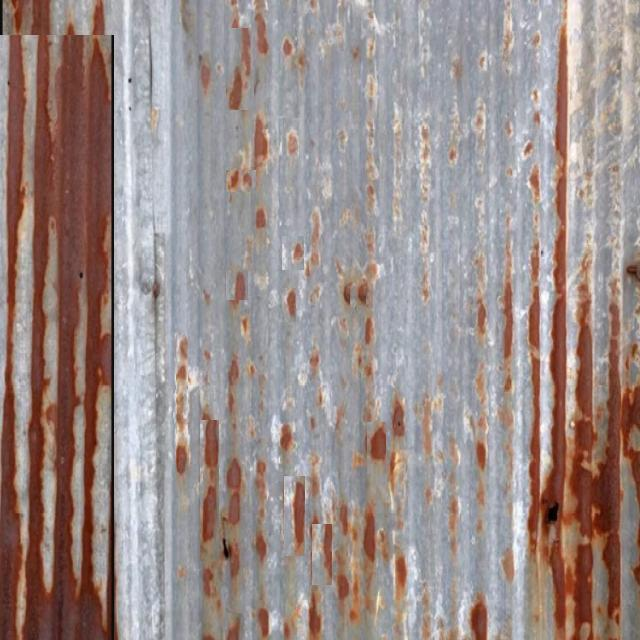Corrosion: (529, 26, 576, 640), (45, 36, 112, 402), (557, 285, 610, 640), (0, 35, 24, 640), (6, 385, 51, 640), (72, 385, 111, 640), (595, 432, 634, 640), (43, 439, 75, 640), (55, 391, 74, 504), (611, 305, 620, 408), (48, 224, 57, 290)
